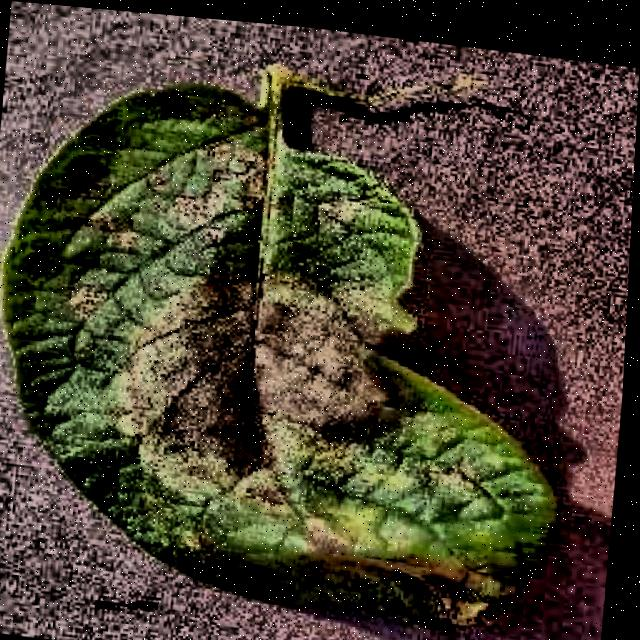Potato_leaf_late_blight: (19, 72, 562, 633)
